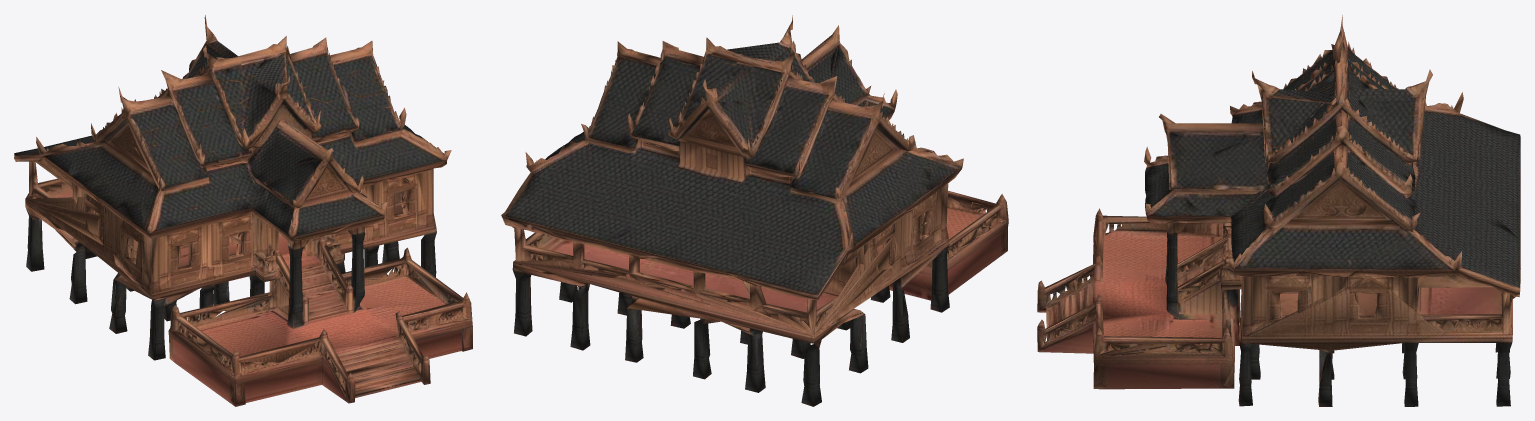
Rendered from royal-hall.glb.
The picture shows the model from 3 angles, left to right: view 1: azimuth 30°, elevation 25°; view 2: azimuth 150°, elevation 25°; view 3: azimuth 270°, elevation 25°; orthographic projection. The views are drawn at different scales.
Visible parts, largest first — view 1: Mesh_0; view 2: Mesh_0; view 3: Mesh_0.
Part boxes in pixels (left/top/right/bottom): Mesh_0: left=14, top=15, right=472, bottom=406; Mesh_0: left=501, top=15, right=1008, bottom=406; Mesh_0: left=1037, top=15, right=1520, bottom=406.
Bounding box in the file's own units: 1.48 × 1.18 × 1.89.
Materials: 1 (1 with a texture image).
